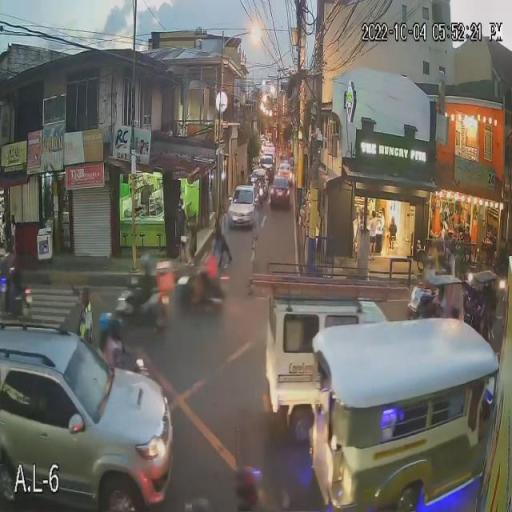helmet: (98, 311, 113, 339), (111, 316, 127, 338), (139, 252, 153, 271)
motorcycle: (114, 284, 173, 329)
rider: (130, 270, 153, 322), (102, 340, 119, 365), (117, 341, 129, 368)
